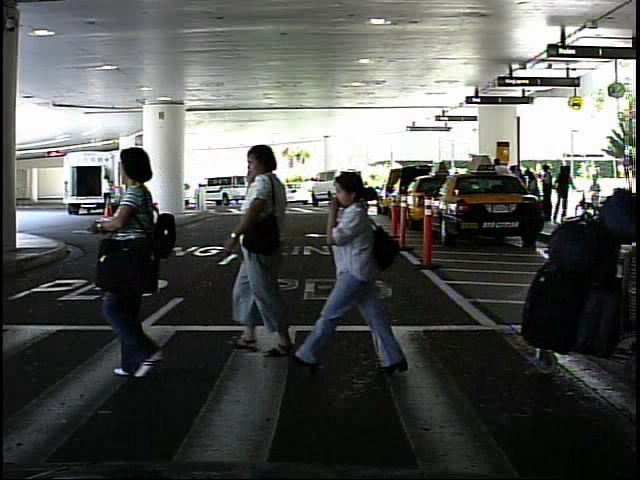person: (82, 135, 195, 383), (308, 160, 420, 381), (216, 139, 322, 360), (99, 172, 118, 222), (588, 172, 607, 205), (256, 178, 267, 204)
